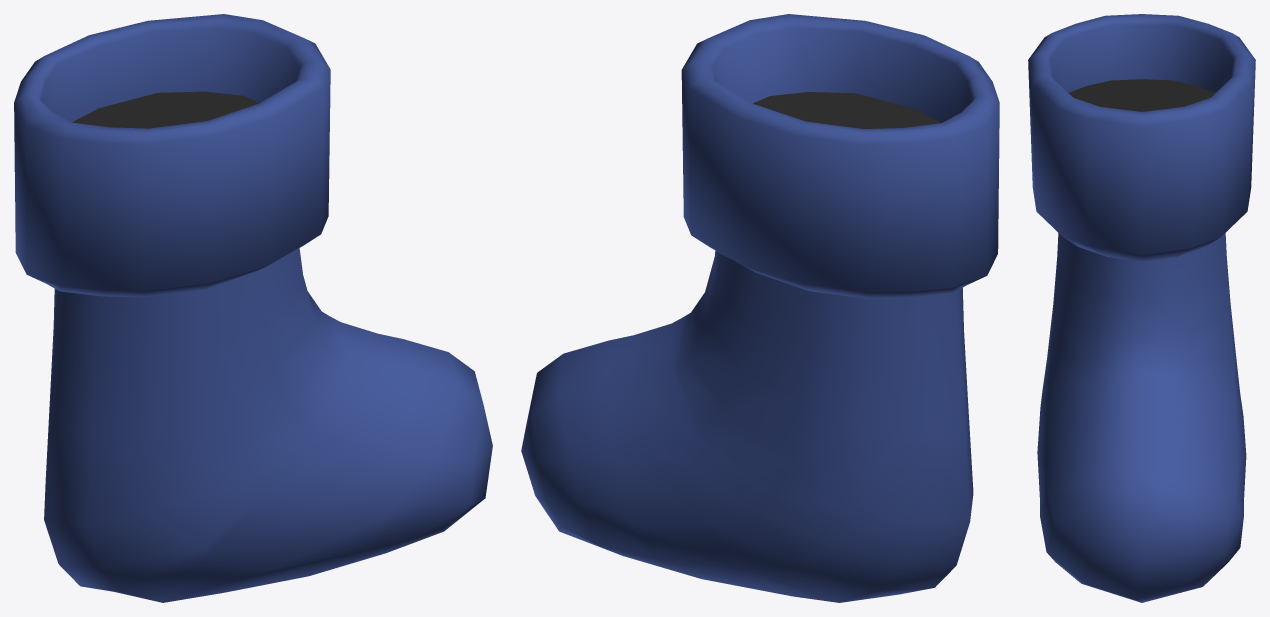
File: ChristmasBoot_02.fbx
3 renders of one model, left to right at view 1: azimuth 30°, elevation 25°; view 2: azimuth 150°, elevation 25°; view 3: azimuth 270°, elevation 25°, orthographic. The views are drawn at different scales.
Visible parts, largest first — view 1: ChristmasBoot_02; view 2: ChristmasBoot_02; view 3: ChristmasBoot_02.
Boxes of the visible parts, x1=… form: ChristmasBoot_02: x1=14, y1=14, x2=492, y2=602; ChristmasBoot_02: x1=521, y1=14, x2=999, y2=602; ChristmasBoot_02: x1=1028, y1=14, x2=1255, y2=602.
Bounding box in the file's own units: 0.2644 × 0.2843 × 0.1323.
